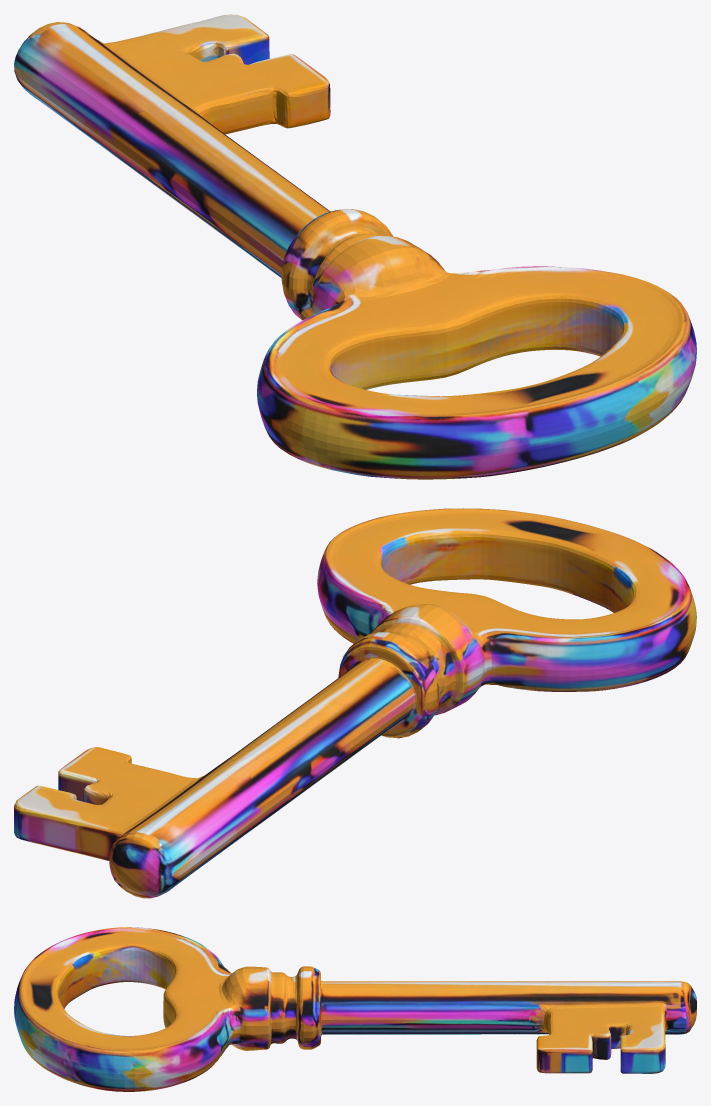
Rendered from golden+key+3d+model.glb.
The picture shows the model from 3 angles, top to bottom: view 1: azimuth 30°, elevation 25°; view 2: azimuth 150°, elevation 25°; view 3: azimuth 270°, elevation 25°; orthographic projection. The views are drawn at different scales.
Visible parts, largest first — view 1: tripo_node_d2b31e90-59c2-471e-8402-abb765cb06aa; view 2: tripo_node_d2b31e90-59c2-471e-8402-abb765cb06aa; view 3: tripo_node_d2b31e90-59c2-471e-8402-abb765cb06aa.
Boxes of the visible parts, box(x1,y1,x2,y2) form: tripo_node_d2b31e90-59c2-471e-8402-abb765cb06aa: box(14, 14, 696, 479); tripo_node_d2b31e90-59c2-471e-8402-abb765cb06aa: box(14, 508, 696, 898); tripo_node_d2b31e90-59c2-471e-8402-abb765cb06aa: box(14, 927, 696, 1091).
Size of the model in its own units: 0.4488 by 0.1236 by 0.9997.
Materials: 1 (1 with a texture image).
